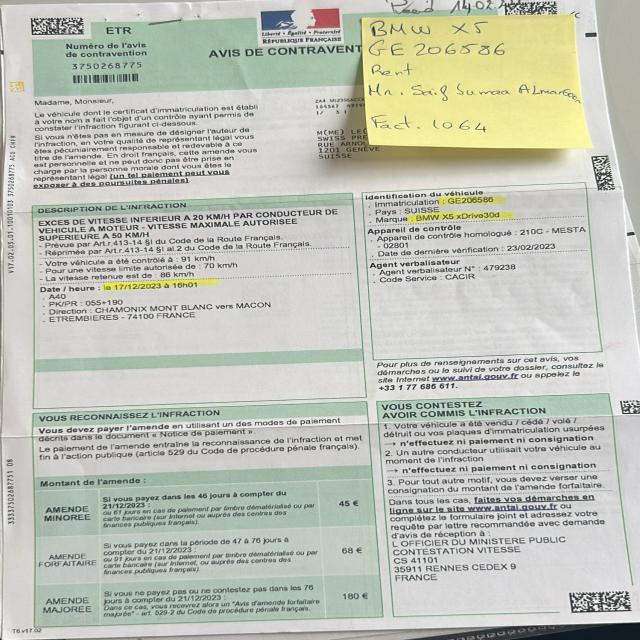paper-document-: (0, 0, 640, 640)
